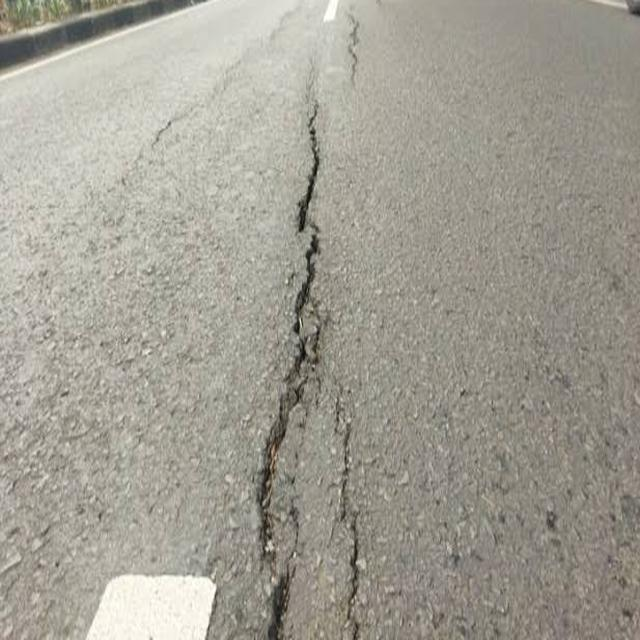Memanjang: (237, 108, 338, 640), (325, 404, 374, 640)
